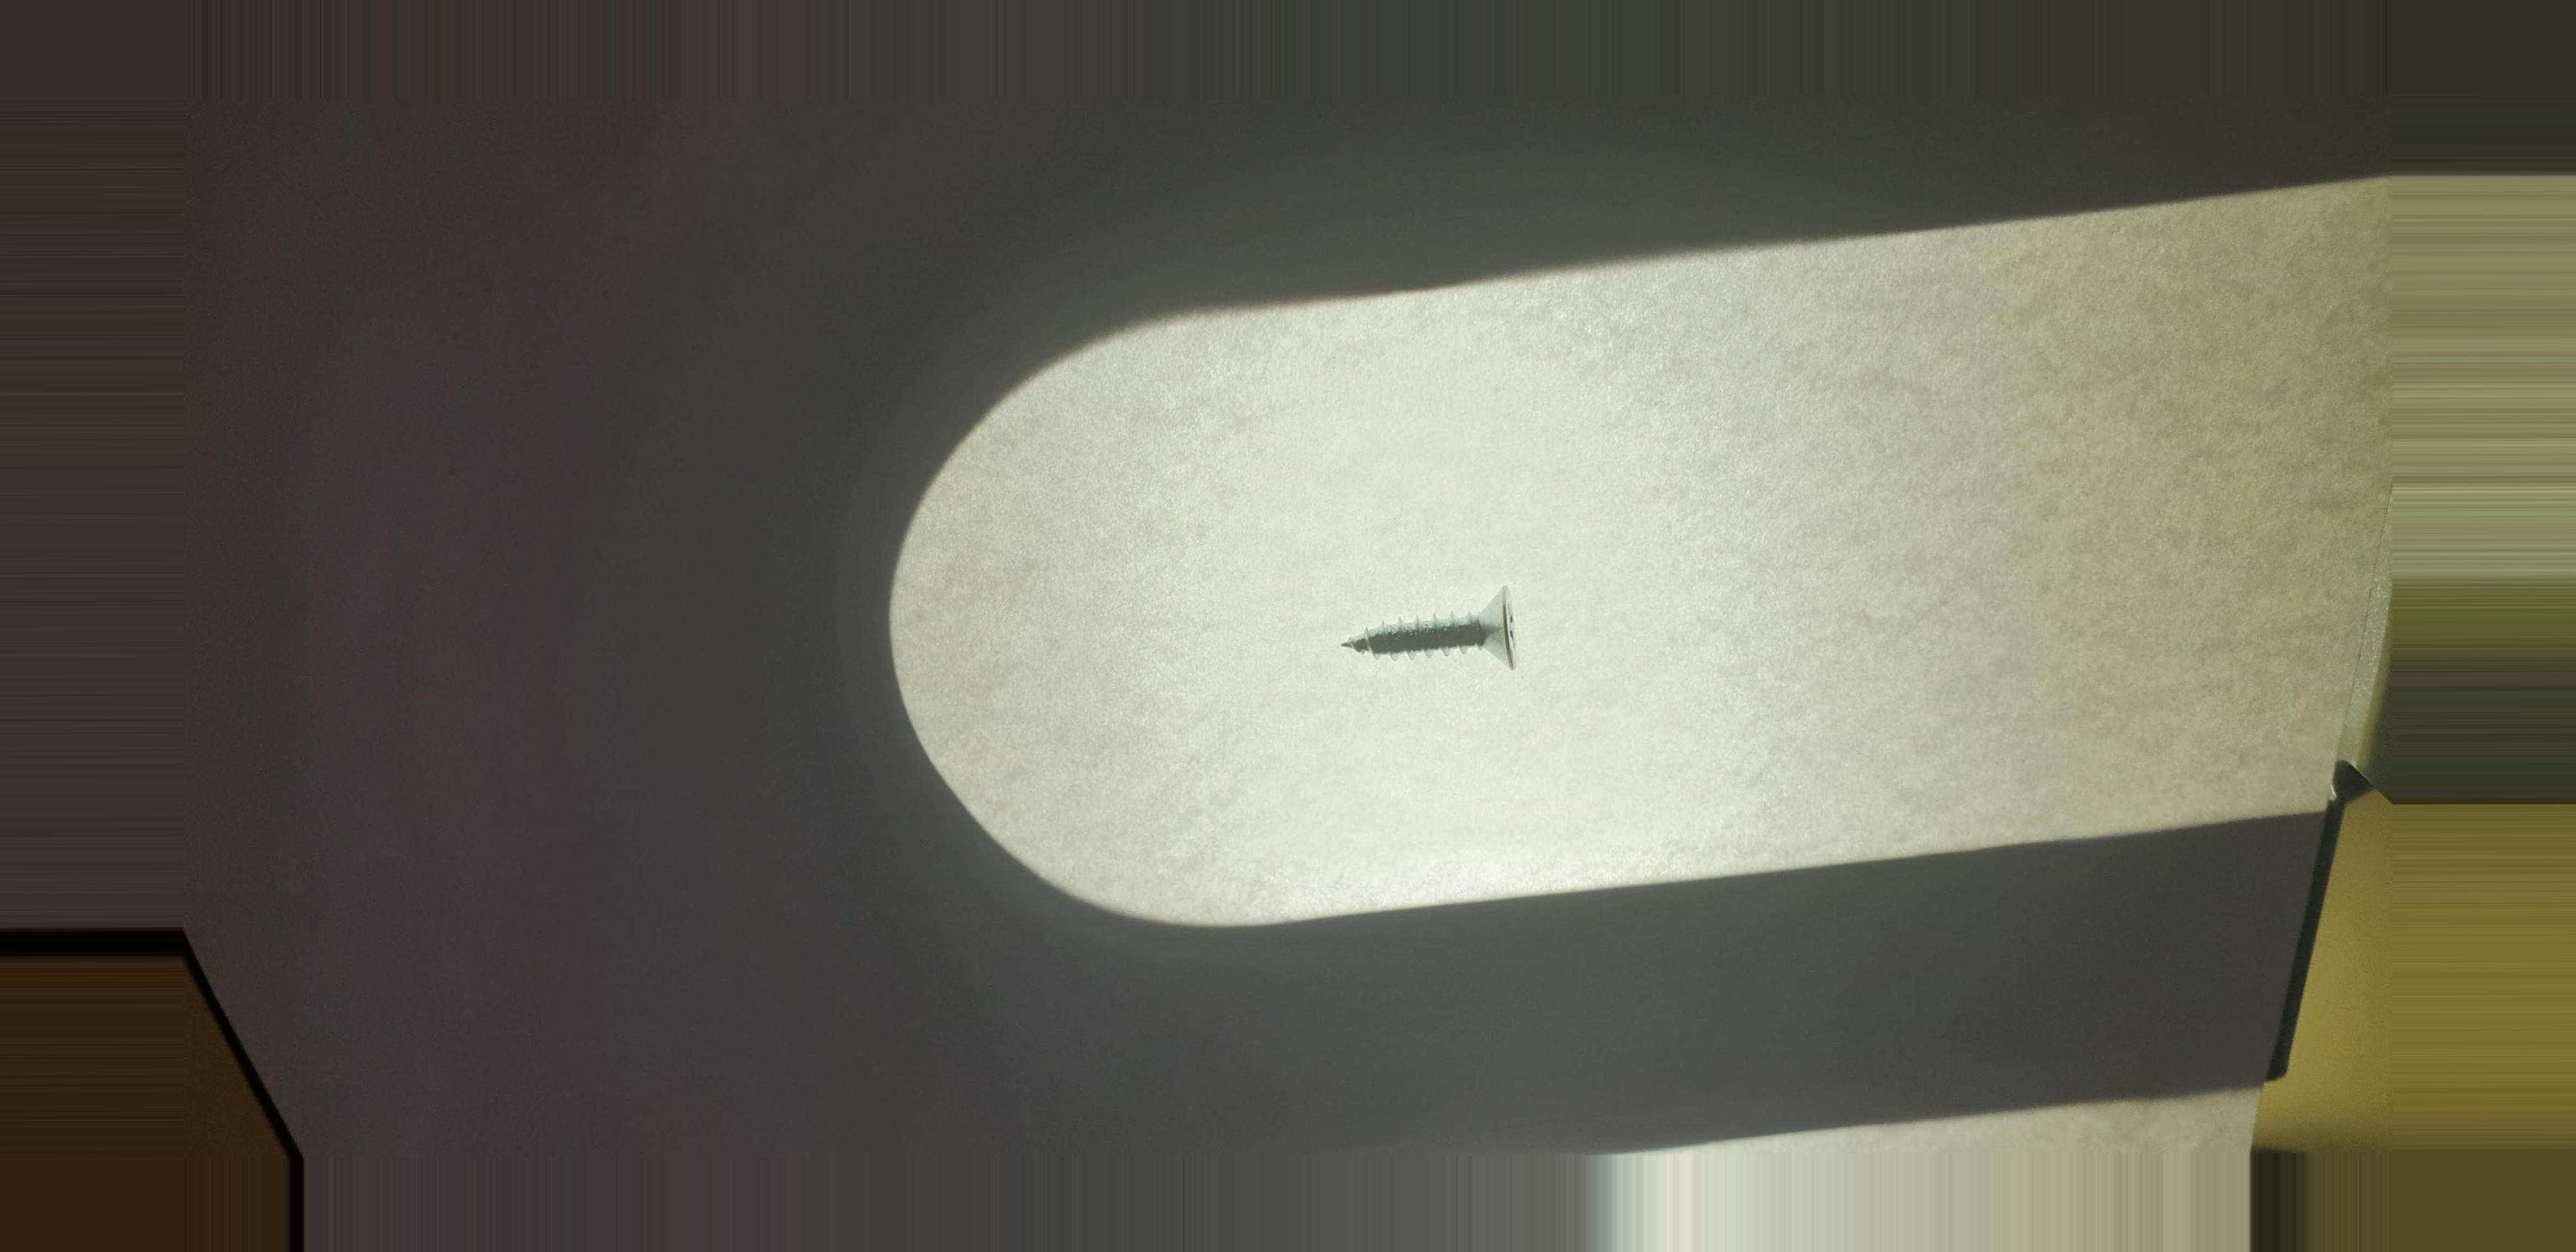S003: (1304, 568, 1556, 687)
